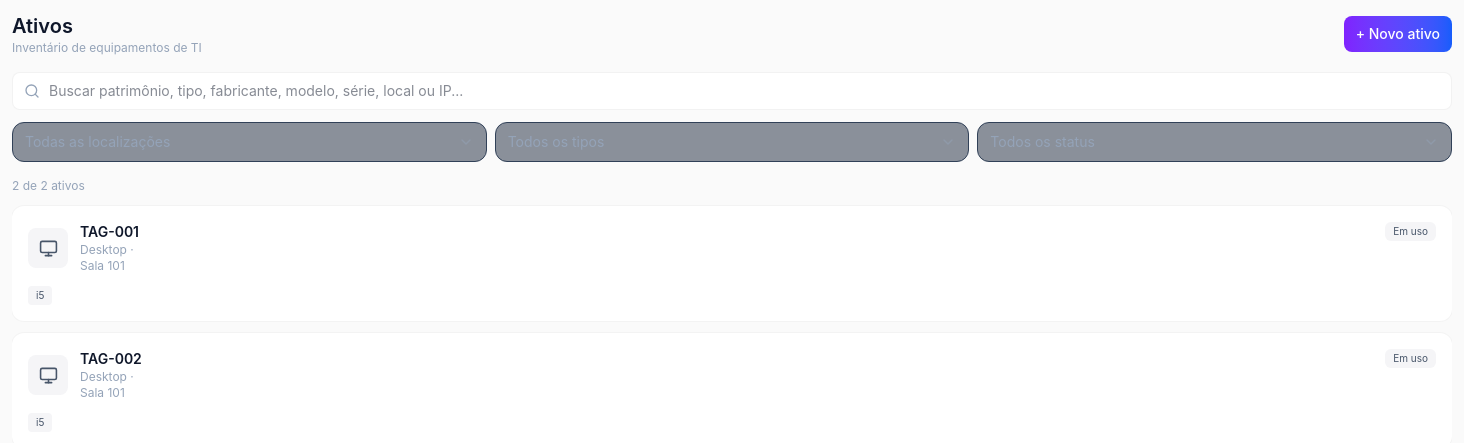
PCList › filtra por busca
Replace the text in the field with placeholder "Buscar" with "TAG-002": [732, 91] box [12, 72, 1452, 110]
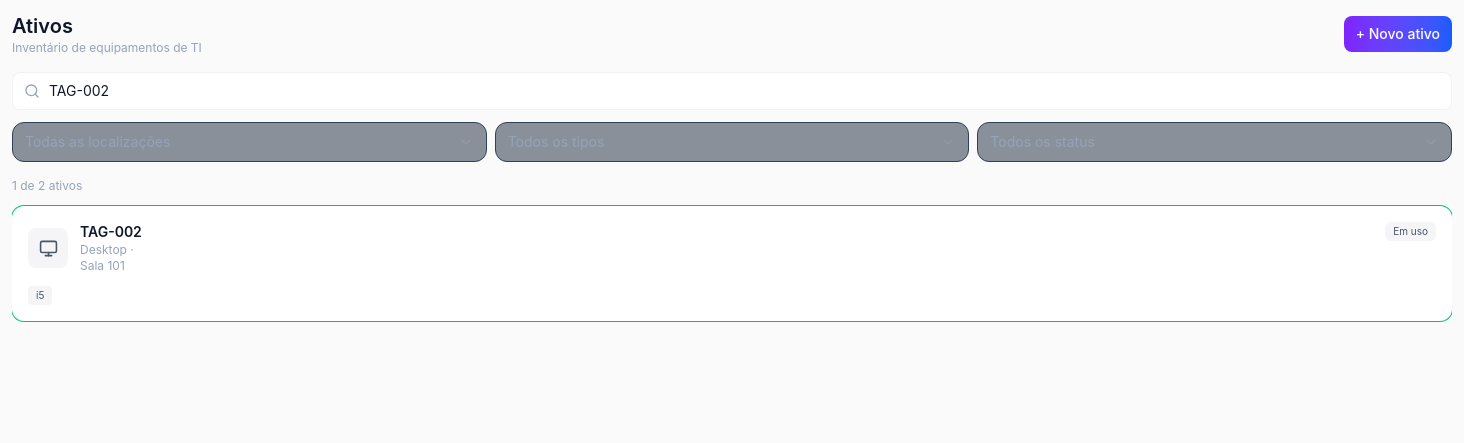
Expected: the heading "TAG-002" is shown, [80, 222, 142, 242]
Now the button "TAG-001" is gone
